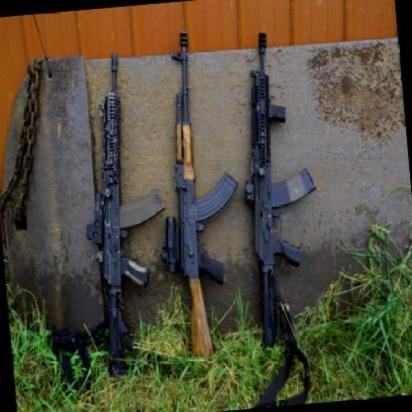Gun: (230, 14, 336, 358), (150, 26, 246, 370), (82, 46, 172, 364)
